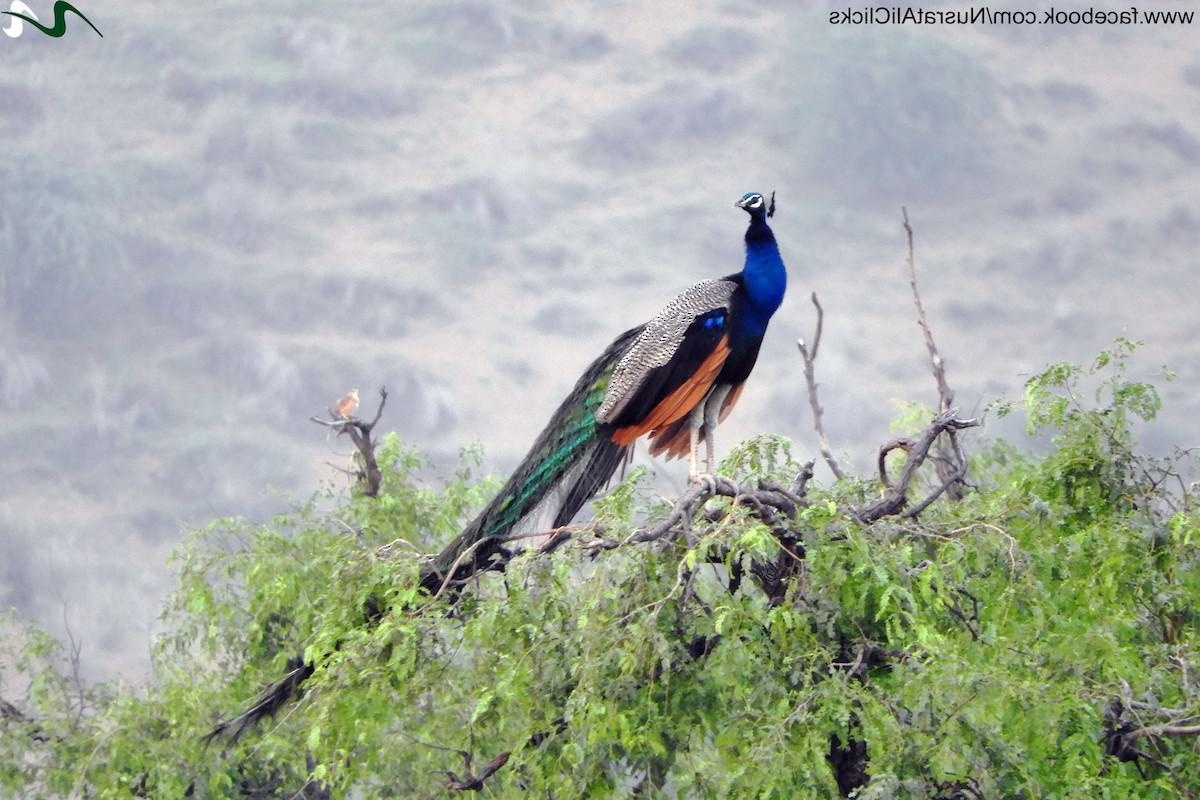peacock: (319, 167, 836, 622)
